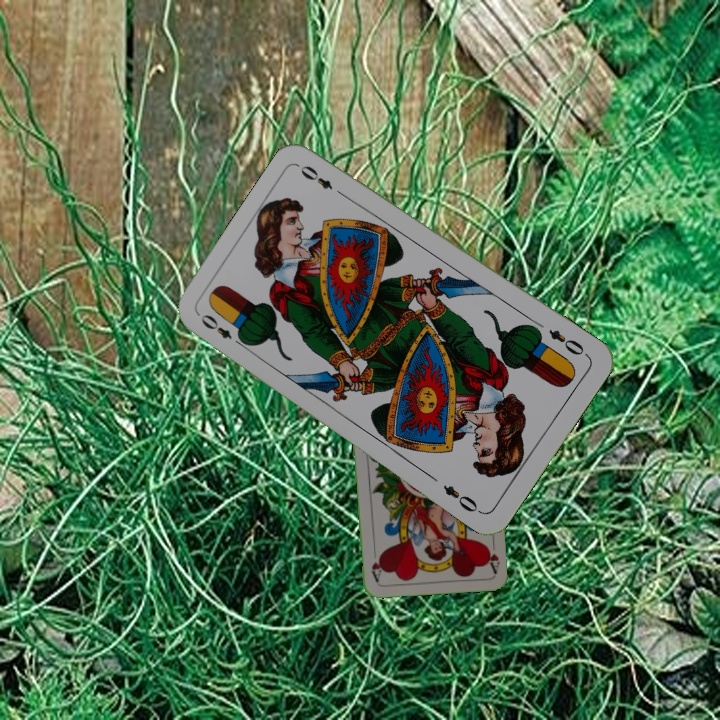EO: (196, 310, 248, 350), (544, 325, 591, 359)
HA: (483, 534, 502, 575)
